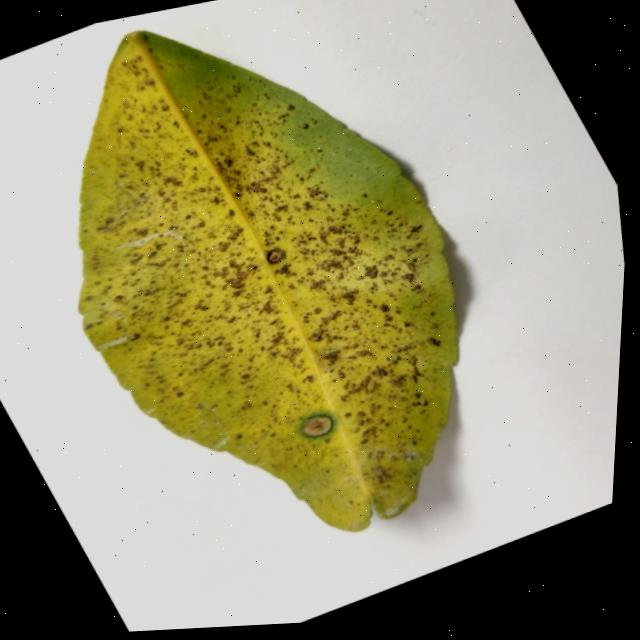melanose: (77, 32, 456, 532)
